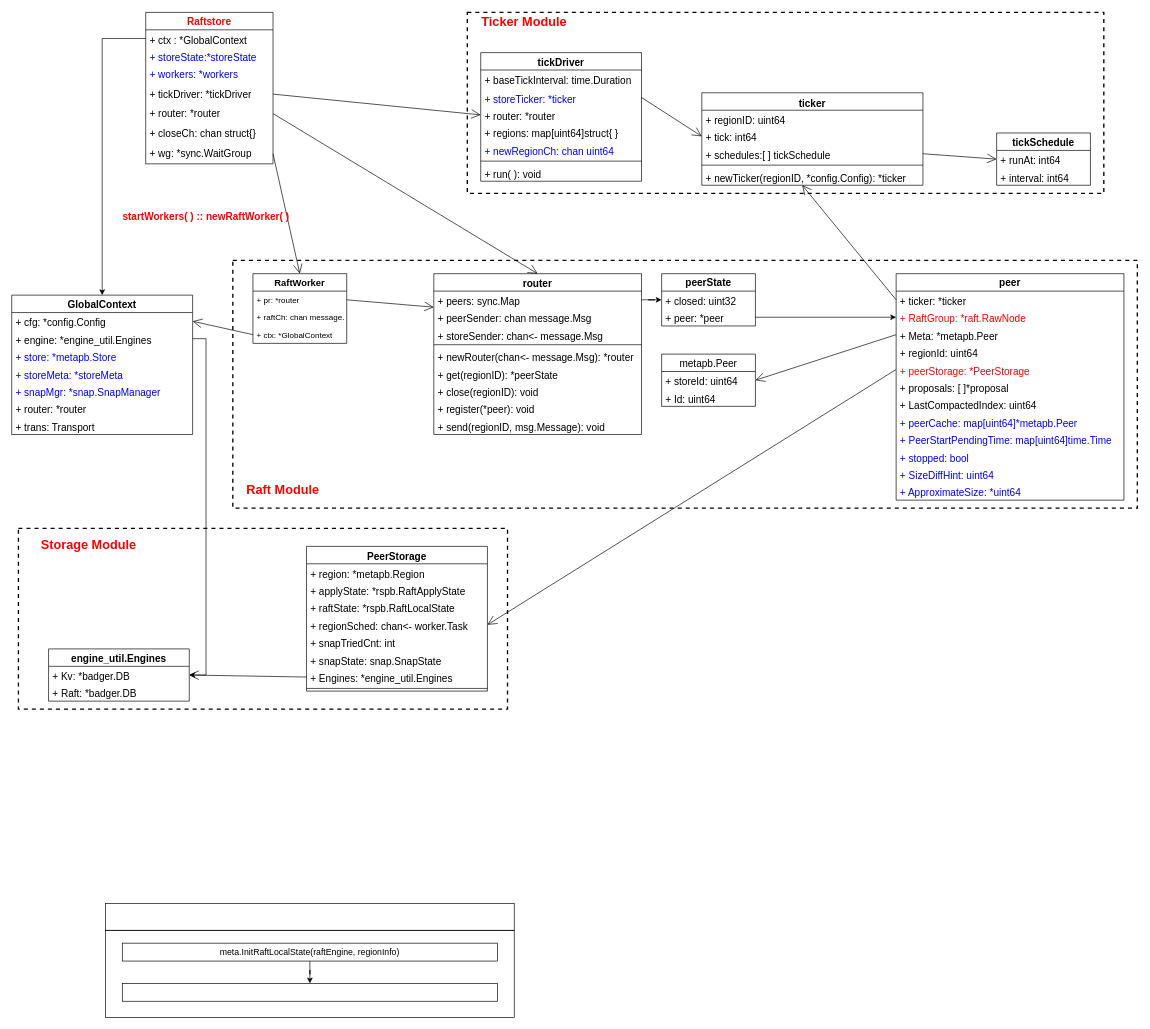
This 1150x1029 diagram has some shape labels left out. The centre of each missing label's shape, as x and y in pixels:
meta.InitApplyState(kvEngine, regionInfo): pixel 309 992
PeerStorage::NewPeerStorage(engine_util.Engines, Region, regionSched, tag): pixel 309 916
